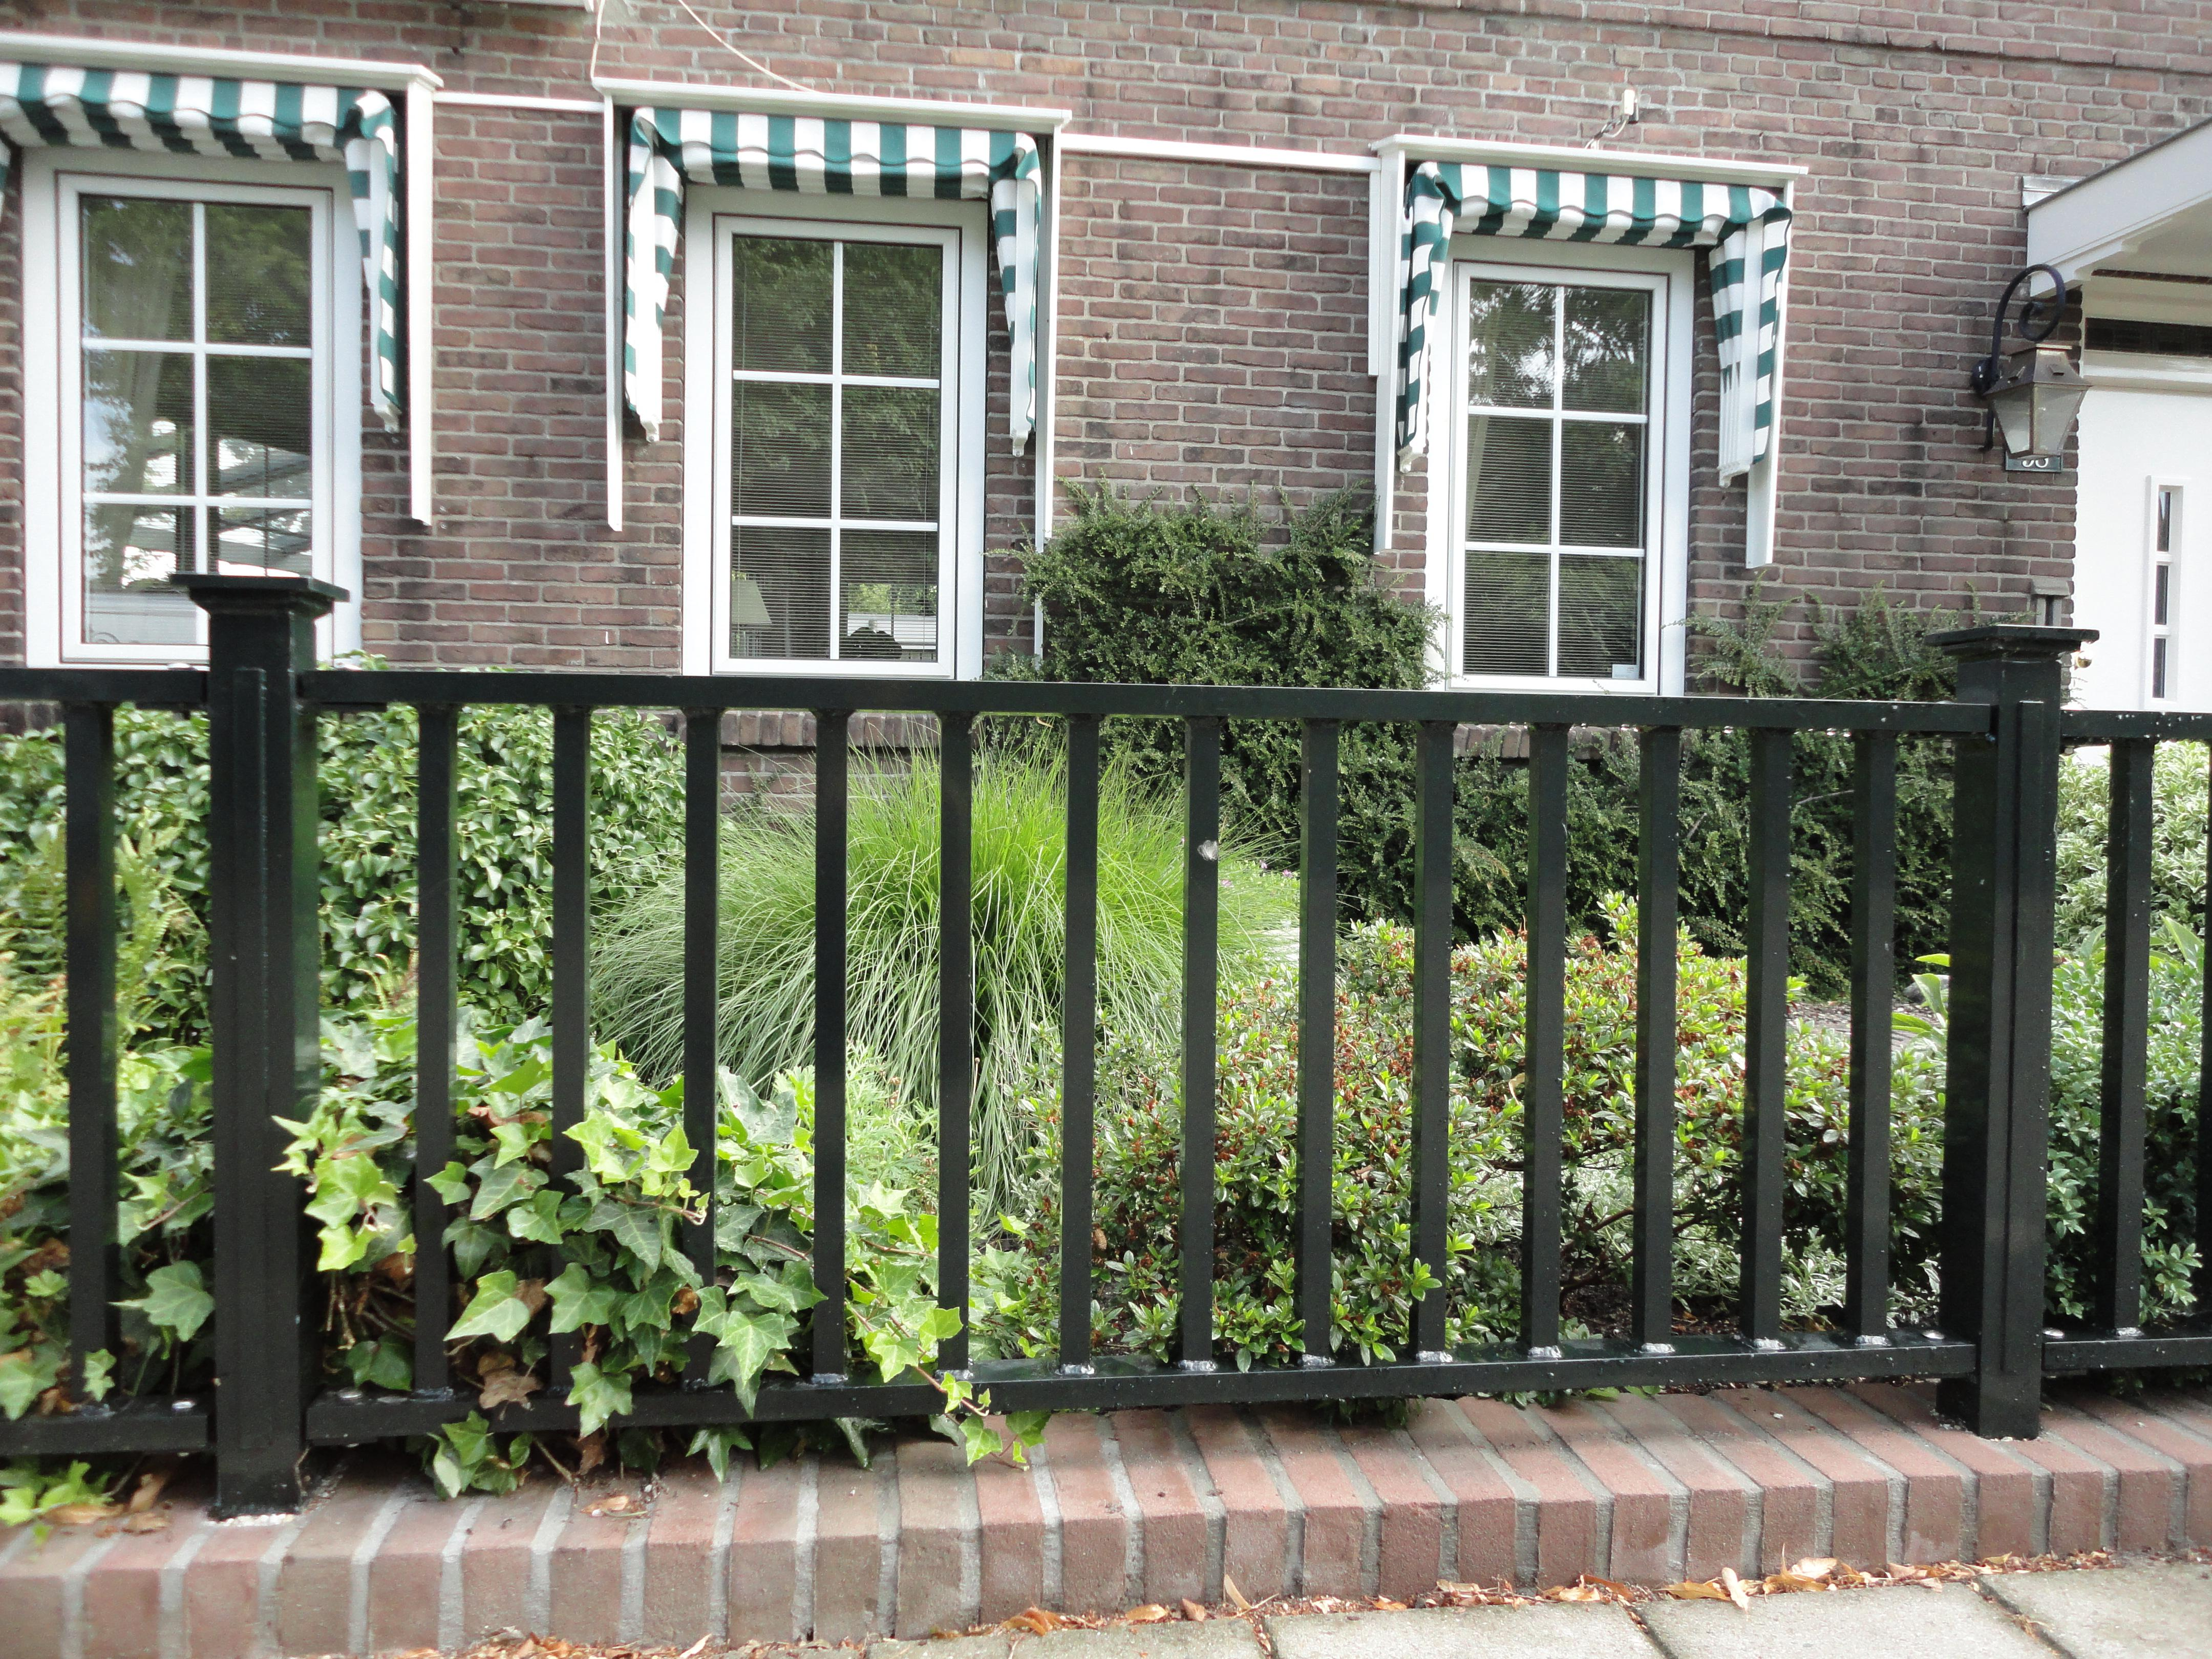obstacle: (362, 0, 2212, 1656)
